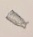microplastic: (5, 9, 29, 30)
